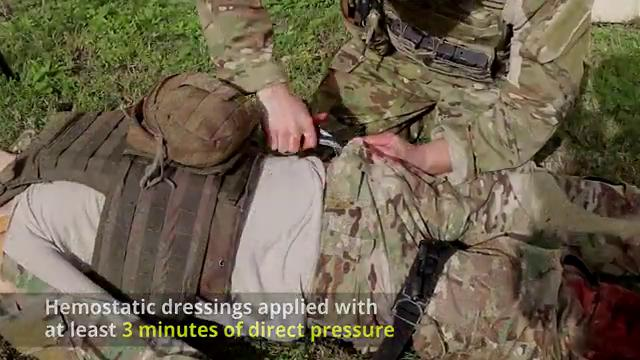scissors: (301, 124, 351, 158)
